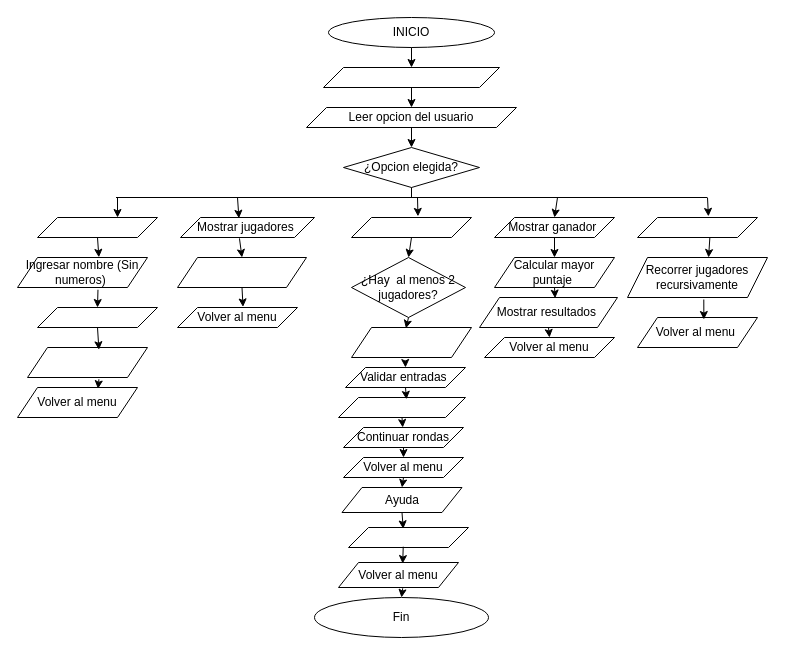
Some shapes in this 785 by 655 pixel diagram are drawn without their labels. The box of each missing label's shape, as (x1, y1, x2, y2) in pixels:
Asignar puntajes: (338, 396, 466, 418)
Ingresar ID unico: (36, 306, 158, 328)
Insertar en lista circular: (26, 346, 148, 378)
Jugar: (350, 216, 472, 238)
Mostrar ayuda: (348, 526, 468, 548)
Mostrar Menú: (322, 66, 500, 88)
Mostrar recursion: (636, 216, 758, 238)
Pedir opciones: (350, 326, 472, 358)
Recorrer lista y mostrar jugadores: (176, 256, 306, 288)
¿Validar S/N?: (36, 216, 158, 238)
